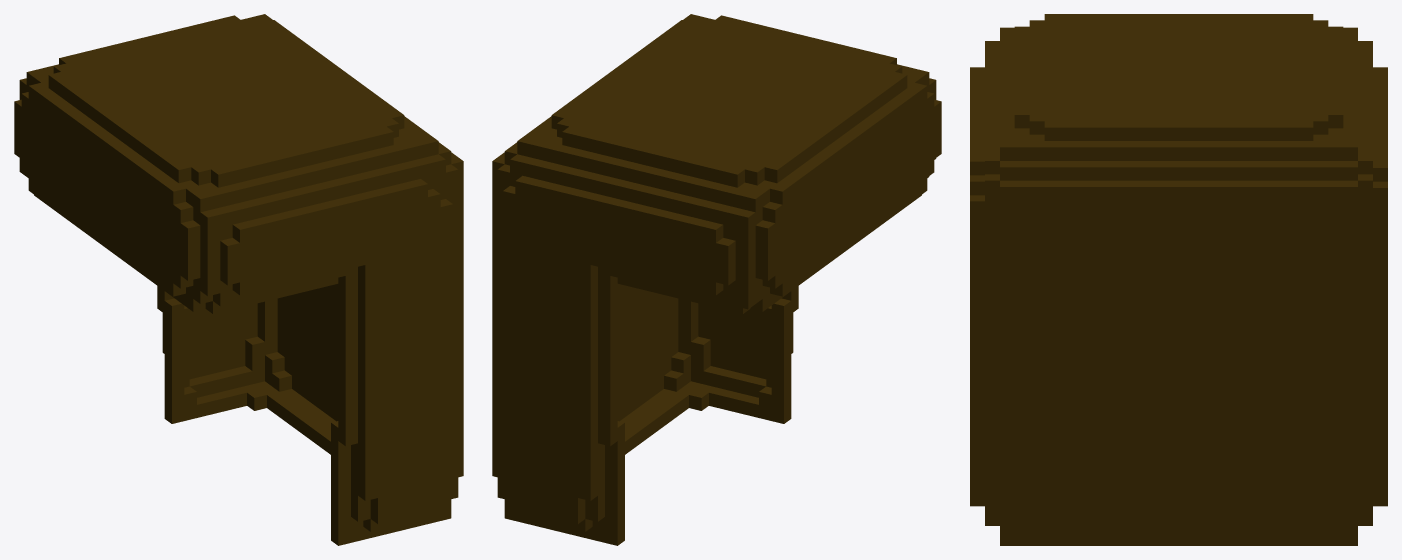
The model's file is hair_short.obj.
3 renders of one model, left to right at view 1: azimuth 30°, elevation 25°; view 2: azimuth 150°, elevation 25°; view 3: azimuth 270°, elevation 25°, orthographic. The views are drawn at different scales.
Size of the model in its own units: 22 by 30 by 28.
